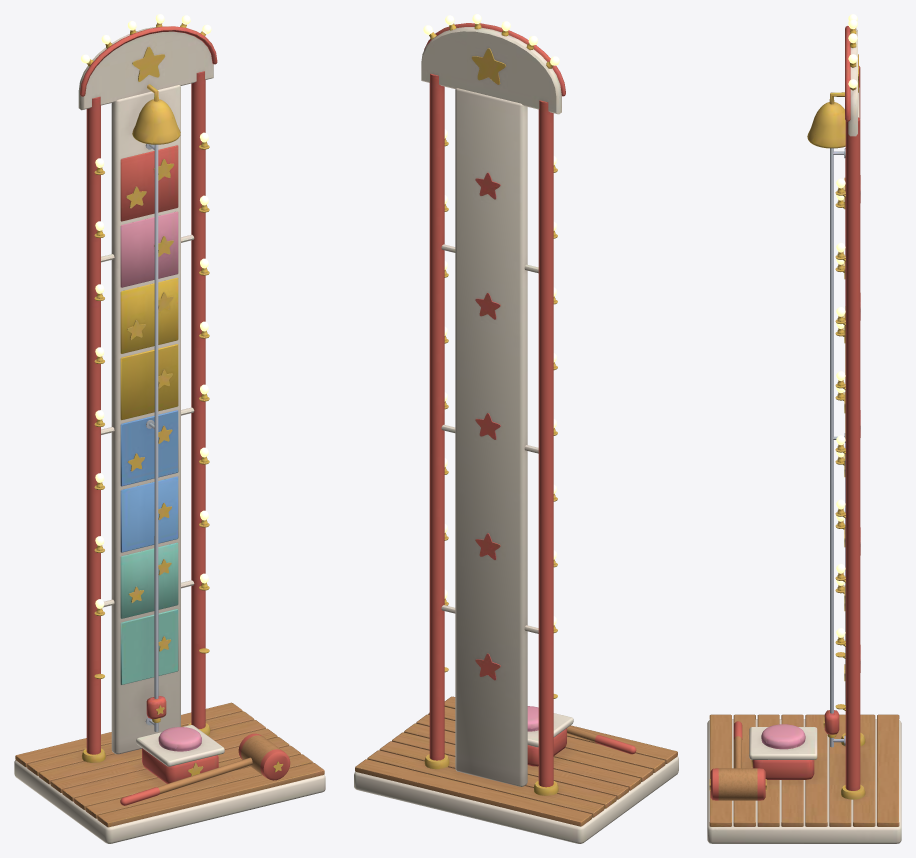
The model's file is martillo_fuerza.glb.
3 renders of one model, left to right at view 1: azimuth 30°, elevation 25°; view 2: azimuth 150°, elevation 25°; view 3: azimuth 270°, elevation 25°, orthographic. The views are drawn at different scales.
Parts seen in each view (by area): view 1: high-striker_body; view 2: high-striker_body; view 3: high-striker_body.
Boxes of the visible parts, box(x1,y1,x2,y2) form: high-striker_body: box(14, 14, 325, 843); high-striker_body: box(354, 14, 678, 843); high-striker_body: box(707, 14, 901, 843).
Bounding box in the file's own units: 1.6 × 5.2 × 1.2.
Materials: 3 (2 with a texture image).
